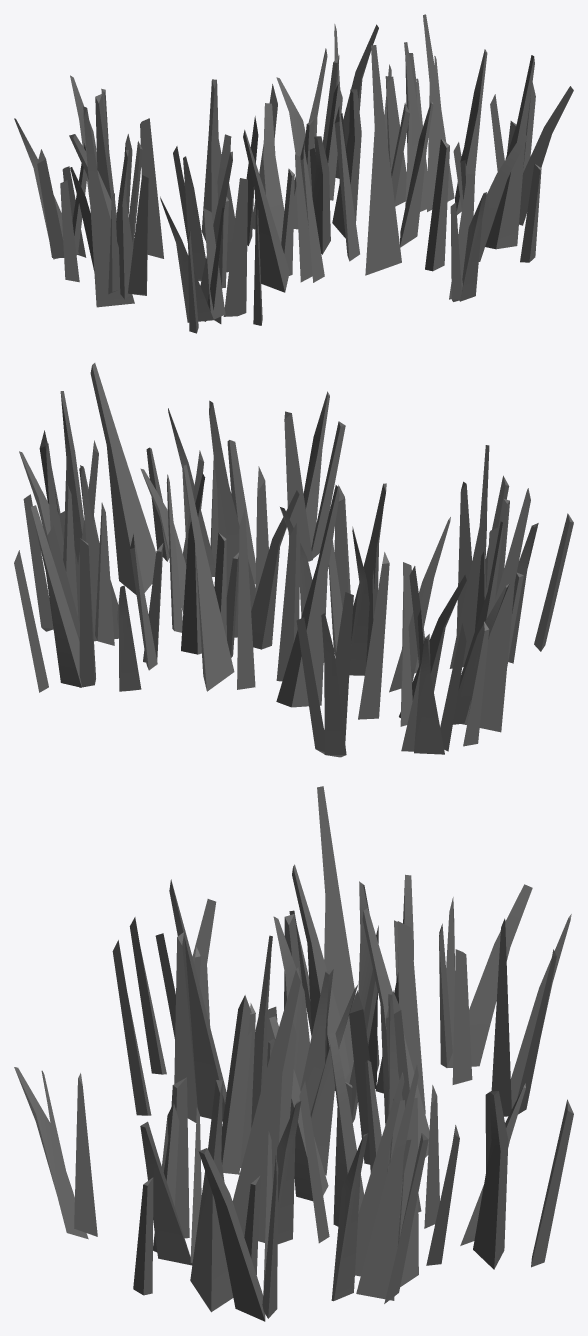
Rendered from SM_Gen_Env_Grass_Tall_04.glb.
3 renders of one model, top to bottom at view 1: azimuth 30°, elevation 25°; view 2: azimuth 150°, elevation 25°; view 3: azimuth 270°, elevation 25°, orthographic. The views are drawn at different scales.
Parts seen in each view (by area): view 1: SM_Gen_Env_Grass_Tall_04; view 2: SM_Gen_Env_Grass_Tall_04; view 3: SM_Gen_Env_Grass_Tall_04.
Boxes of the visible parts, left/top/right/bottom form: SM_Gen_Env_Grass_Tall_04: left=14, top=14, right=573, bottom=333; SM_Gen_Env_Grass_Tall_04: left=14, top=363, right=573, bottom=757; SM_Gen_Env_Grass_Tall_04: left=14, top=786, right=573, bottom=1321.
Bounding box in the file's own units: 3.83 × 1.72 × 3.14.
1 material, 1 textured.
